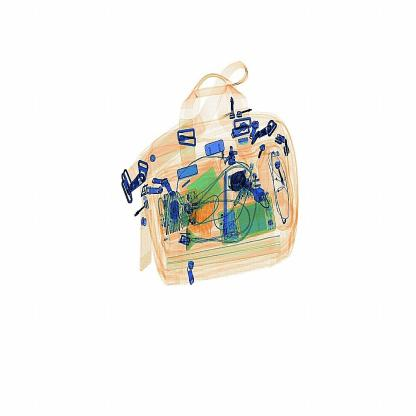pliers: (221, 172, 232, 239)
